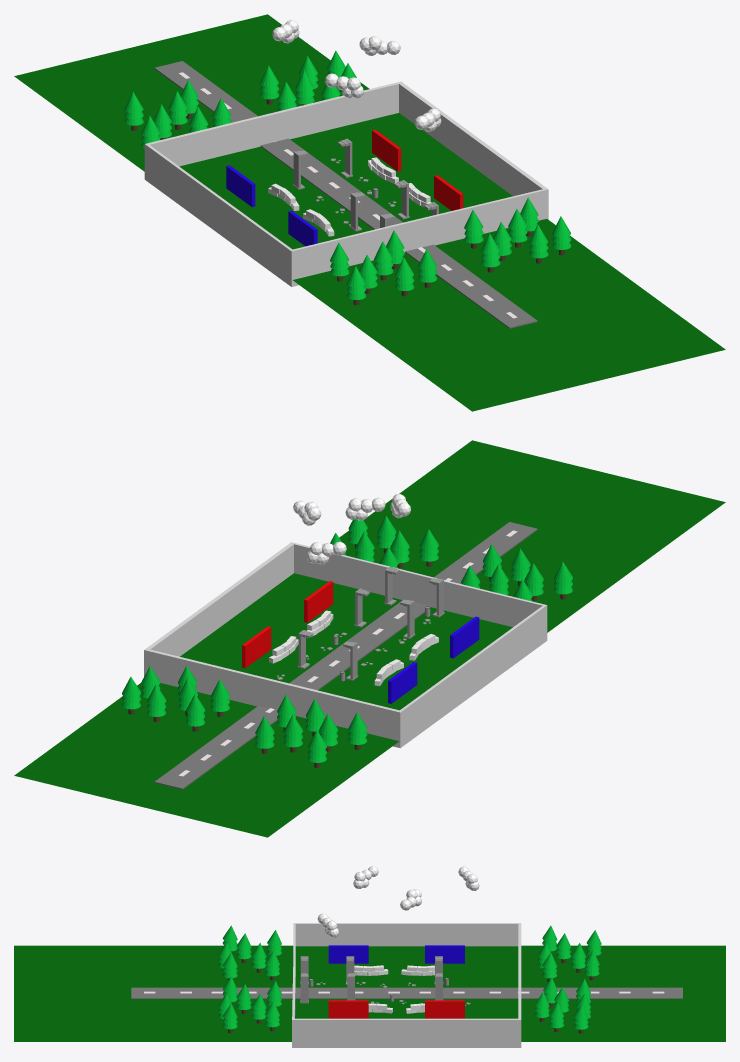
File: MAP.glb
The picture shows the model from 3 angles, top to bottom: view 1: azimuth 30°, elevation 25°; view 2: azimuth 150°, elevation 25°; view 3: azimuth 270°, elevation 25°; orthographic projection. The views are drawn at different scales.
Parts seen in each view (by area): view 1: Plane.001, Cube.026, Cube, Cube.063, Cube.061, Cube.062, Cube.060; view 2: Plane.001, Cube.026, Cube, Cube.063, Cube.061, Cube.062, Cube.060; view 3: Plane.001, Cube.026, Cube, Cube.062, Cube.063, Cube.060, Cube.061.
Part boxes in pixels (x1,y1,x2,y2): Plane.001: (14, 14, 725, 411); Cube.026: (144, 81, 548, 286); Cube: (154, 61, 537, 328); Cube.063: (372, 129, 401, 171); Cube.061: (226, 165, 255, 206); Cube.062: (434, 175, 463, 210); Cube.060: (288, 210, 317, 246); Plane.001: (14, 440, 725, 837); Cube.026: (144, 542, 547, 748); Cube: (154, 522, 537, 789); Cube.063: (242, 626, 271, 668); Cube.061: (388, 662, 417, 703); Cube.062: (304, 581, 333, 622); Cube.060: (450, 616, 479, 658); Plane.001: (14, 945, 725, 1041); Cube.026: (292, 923, 521, 1047); Cube: (131, 987, 682, 998); Cube.062: (328, 1000, 368, 1018); Cube.063: (425, 1000, 464, 1018); Cube.060: (328, 945, 368, 963); Cube.061: (425, 945, 464, 963).
Size of the model in its own units: 40.41 by 23.41 by 125.
